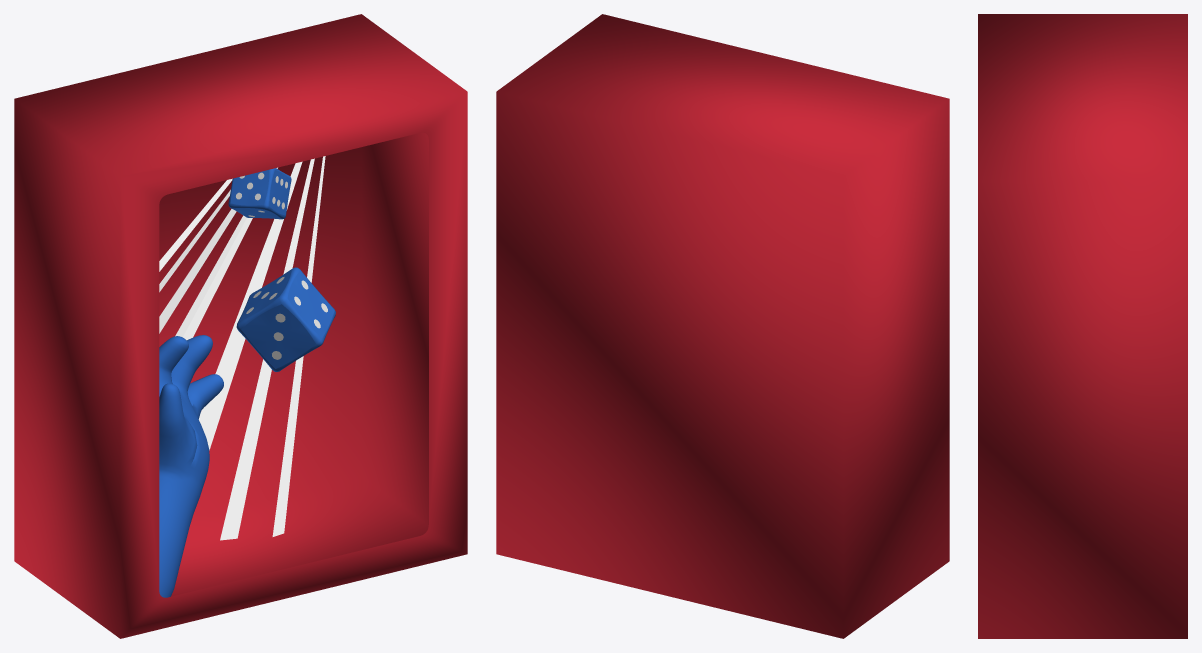
The model's file is 28_RollDice.gltf.
3 views of the same model, side by side, from view 1: azimuth 30°, elevation 25°; view 2: azimuth 150°, elevation 25°; view 3: azimuth 270°, elevation 25° (orthographic).
Visible parts, largest first — view 1: 28_RollDice_bg, 28_RollDice; view 2: 28_RollDice_bg; view 3: 28_RollDice_bg.
Part boxes in pixels (box(x1,y1,x2,y2)): 28_RollDice_bg: box(14, 14, 467, 638); 28_RollDice: box(159, 156, 335, 597); 28_RollDice_bg: box(496, 14, 949, 638); 28_RollDice_bg: box(978, 14, 1187, 638).
Bounding box in the file's own units: 2.76 × 3.51 × 1.46.
2 materials, 2 textured.
